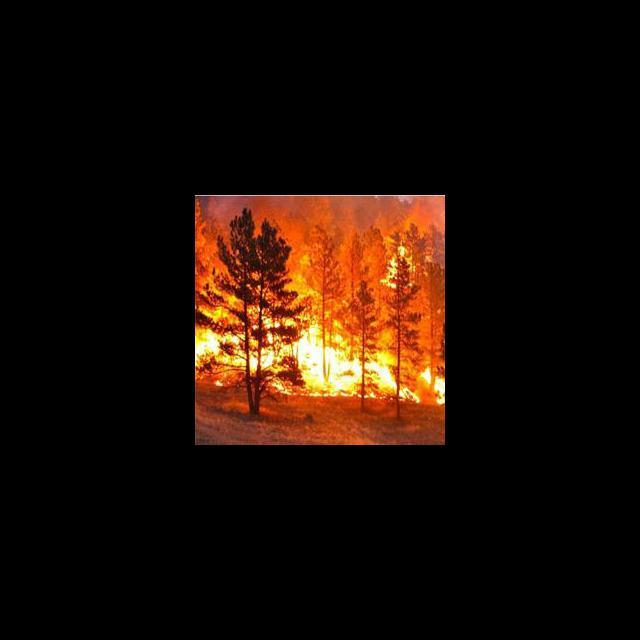Fire: (196, 299, 445, 407), (376, 242, 424, 286)
